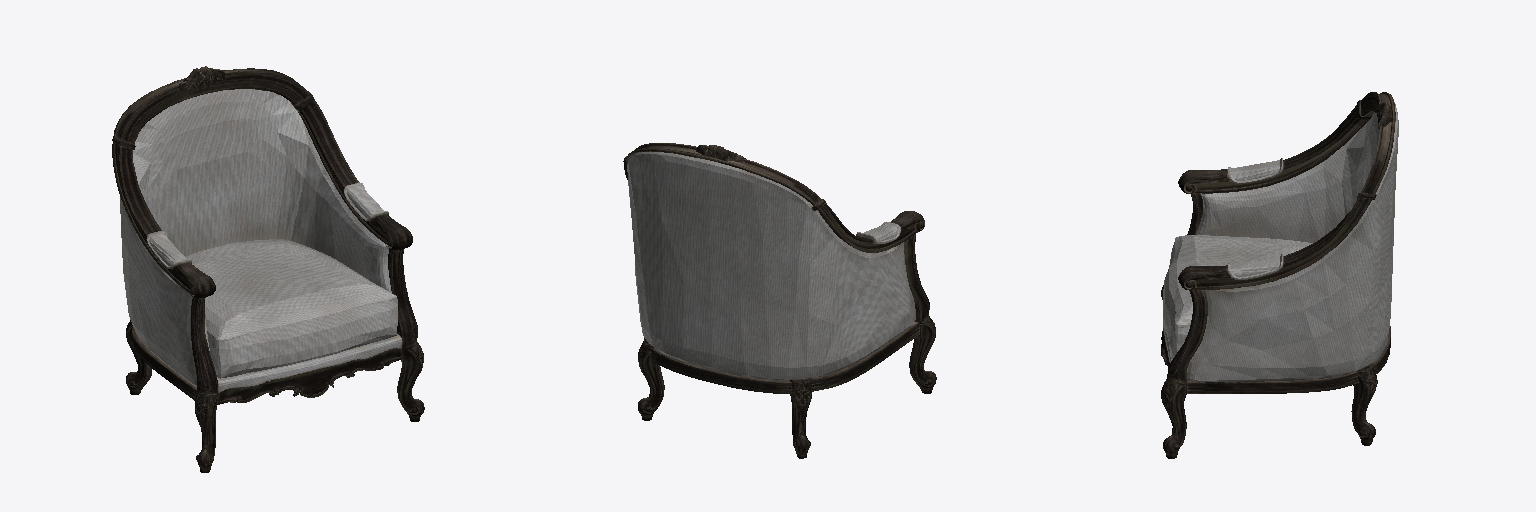
The picture shows the model from 3 angles: view 1: azimuth 30°, elevation 25°; view 2: azimuth 150°, elevation 25°; view 3: azimuth 270°, elevation 25°; orthographic projection.
Parts seen in each view (by area): view 1: ArmChair_01; view 2: ArmChair_01; view 3: ArmChair_01.
Part boxes in pixels (bbox=[...]): ArmChair_01: bbox=[112, 66, 424, 472]; ArmChair_01: bbox=[623, 143, 936, 458]; ArmChair_01: bbox=[1161, 92, 1398, 458].
Bounding box in the file's own units: 0.8484 × 1.07 × 0.7658.
1 materials, 1 textured.